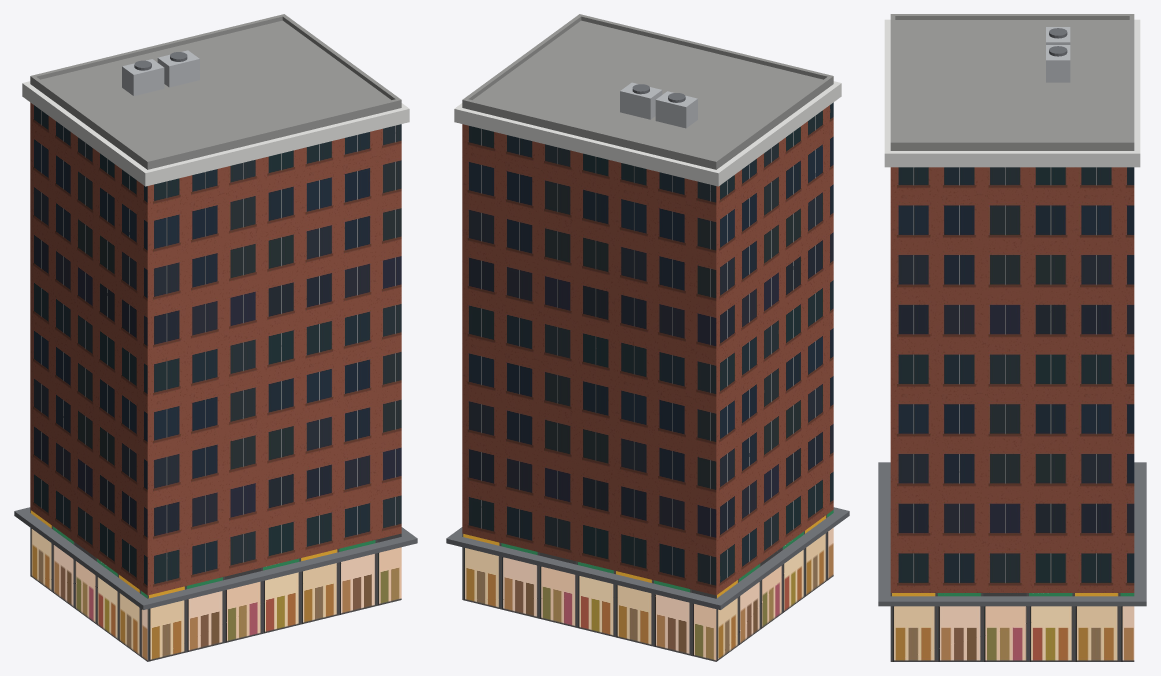
Rendered from office_brick.glb.
3 renders of one model, left to right at view 1: azimuth 30°, elevation 25°; view 2: azimuth 150°, elevation 25°; view 3: azimuth 270°, elevation 25°, orthographic. The views are drawn at different scales.
Parts seen in each view (by area): view 1: office_brick; view 2: office_brick; view 3: office_brick.
Part boxes in pixels (x1,y1,x2,y2): office_brick: (14,14,417,661); office_brick: (446,14,849,661); office_brick: (878,14,1146,661).
Size of the model in its own units: 21.6 by 39.1 by 17.6.
Materials: 6 (2 with a texture image).
